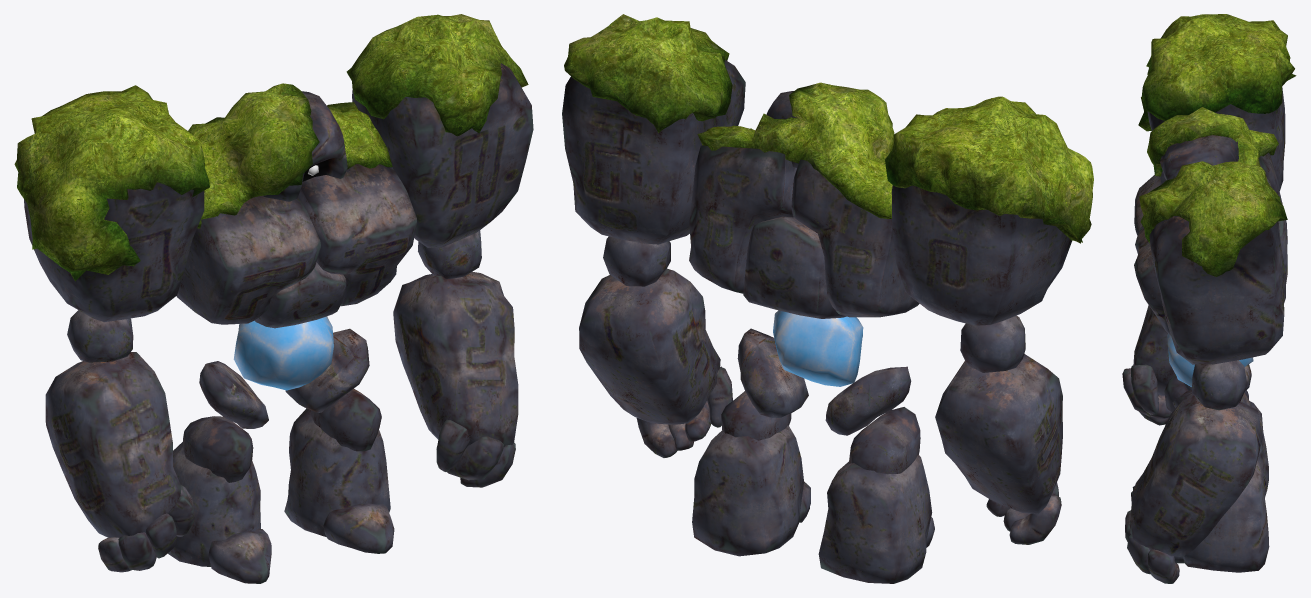
File: Metal_Golem.dae
The picture shows the model from 3 angles, left to right: view 1: azimuth 30°, elevation 25°; view 2: azimuth 150°, elevation 25°; view 3: azimuth 270°, elevation 25°; orthographic projection. The views are drawn at different scales.
Visible parts, largest first — view 1: Cube.001, Grass_Backup.001; view 2: Cube.001, Grass_Backup.001; view 3: Cube.001, Grass_Backup.001.
Part boxes in pixels (x1,y1,x2,y2): Cube.001: (24, 63, 533, 583); Grass_Backup.001: (14, 14, 528, 281); Cube.001: (562, 60, 1072, 583); Grass_Backup.001: (564, 14, 1093, 243); Cube.001: (1122, 86, 1287, 583); Grass_Backup.001: (1138, 14, 1296, 276).
Size of the model in its own units: 8.81 by 2.96 by 8.28.
